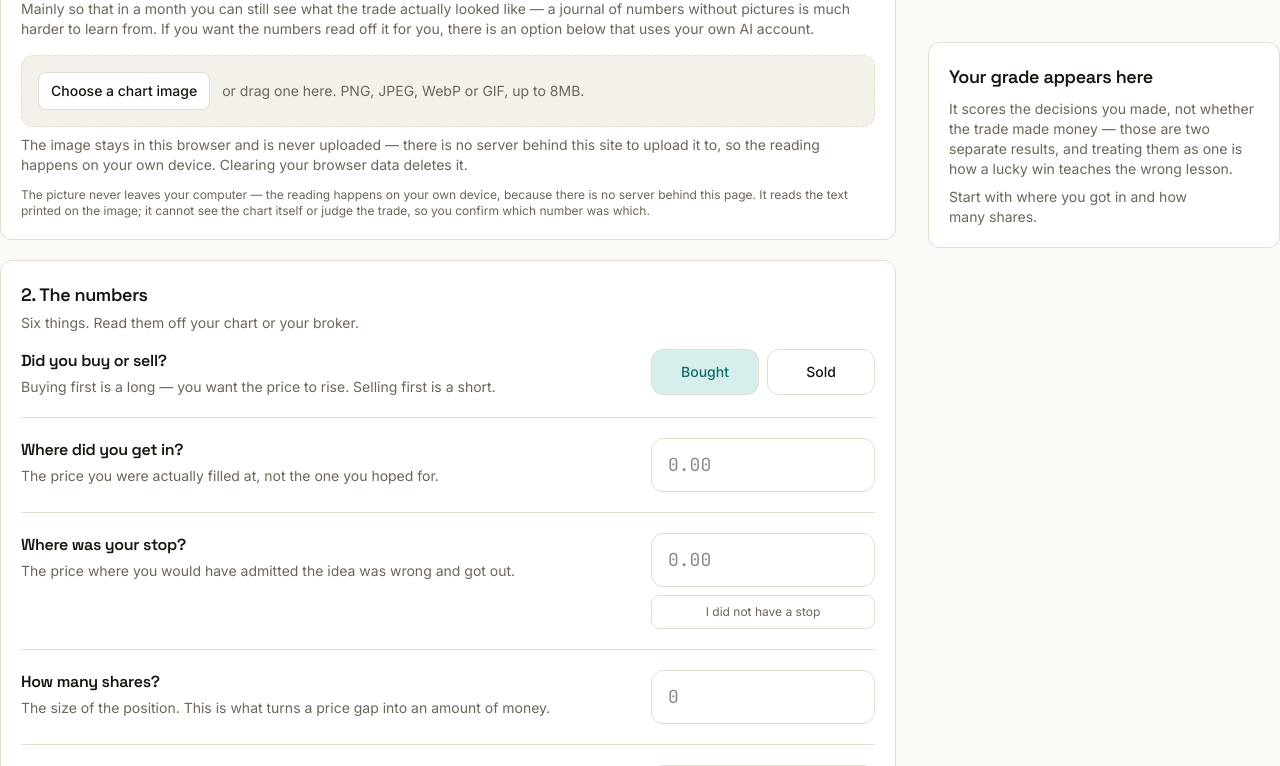
Test: the size hint cannot recommend more than the account can buy › the use-that button fills in the capped number, not the raw one
In the number field with placeholder "0.00" in the row of "Where did you get in?": point(763, 465) [651, 438, 875, 492], type "100"
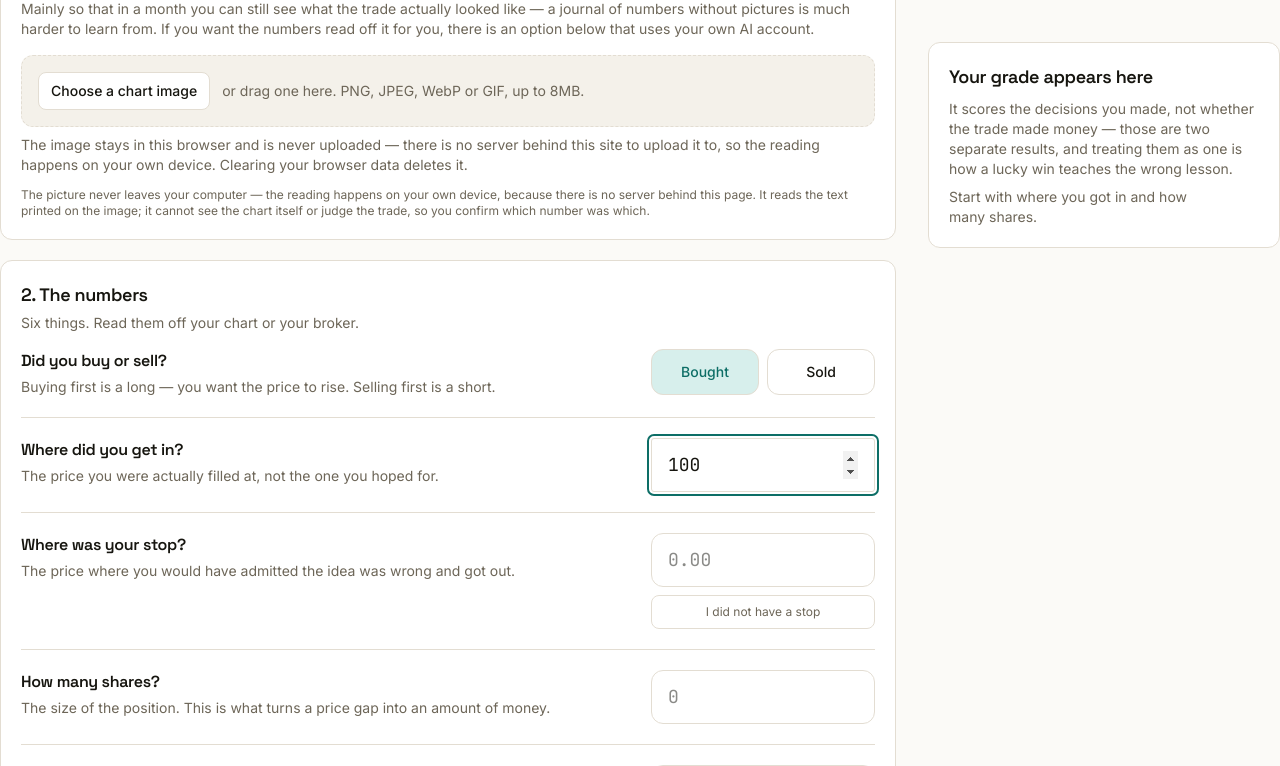
In the number field with placeholder "0.00" in the row of "Where was your stop?": point(763, 560) [651, 533, 875, 587], type "99.99"
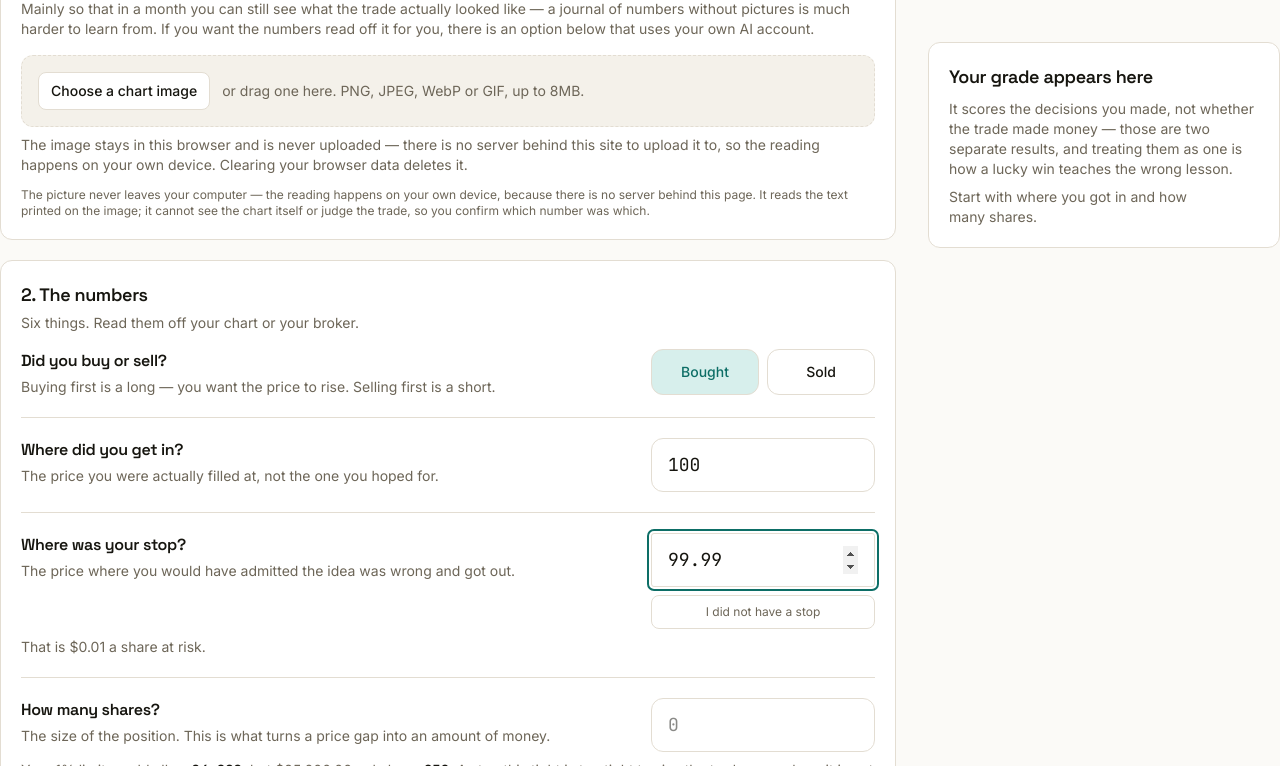
In the number field with placeholder "0": point(763, 725) [651, 698, 875, 752], type "1"
(page scrolled)
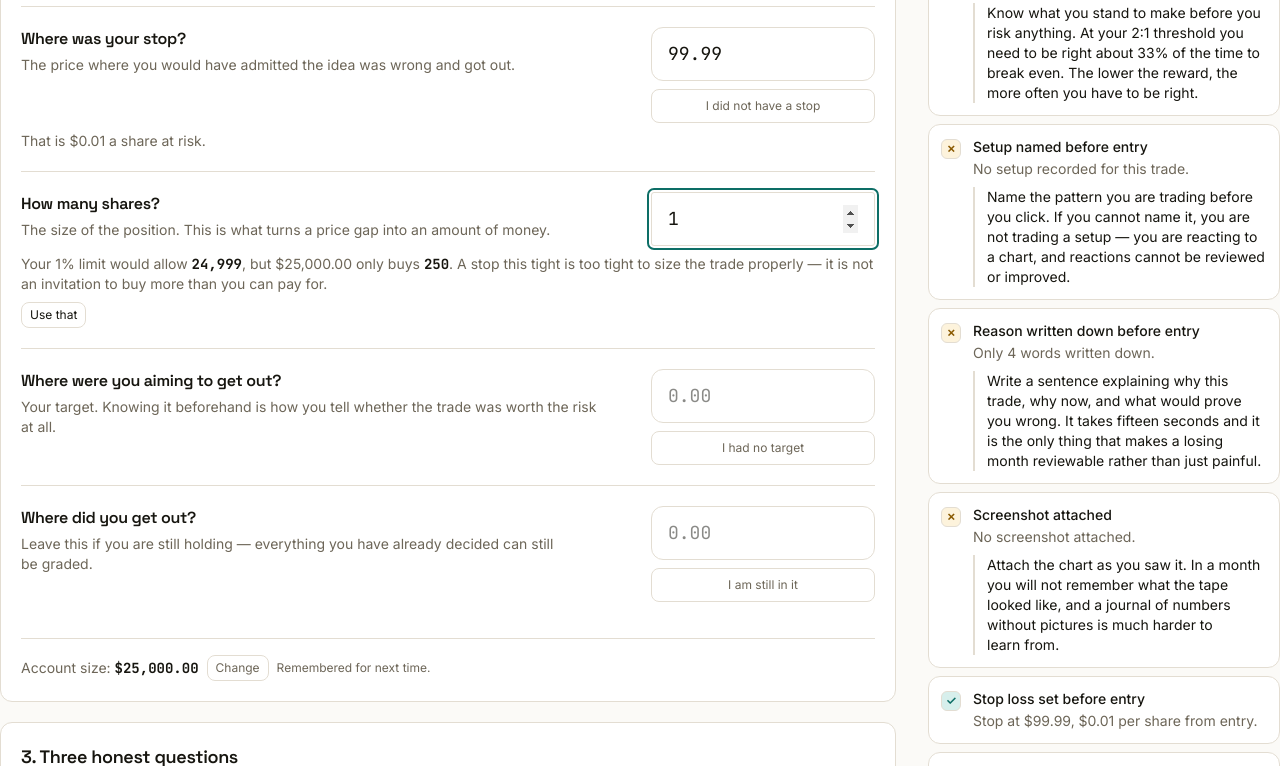
In the number field with placeholder "0.00" in the row of "Where were you aiming to get out?": point(763, 396) [651, 369, 875, 423], type "103"
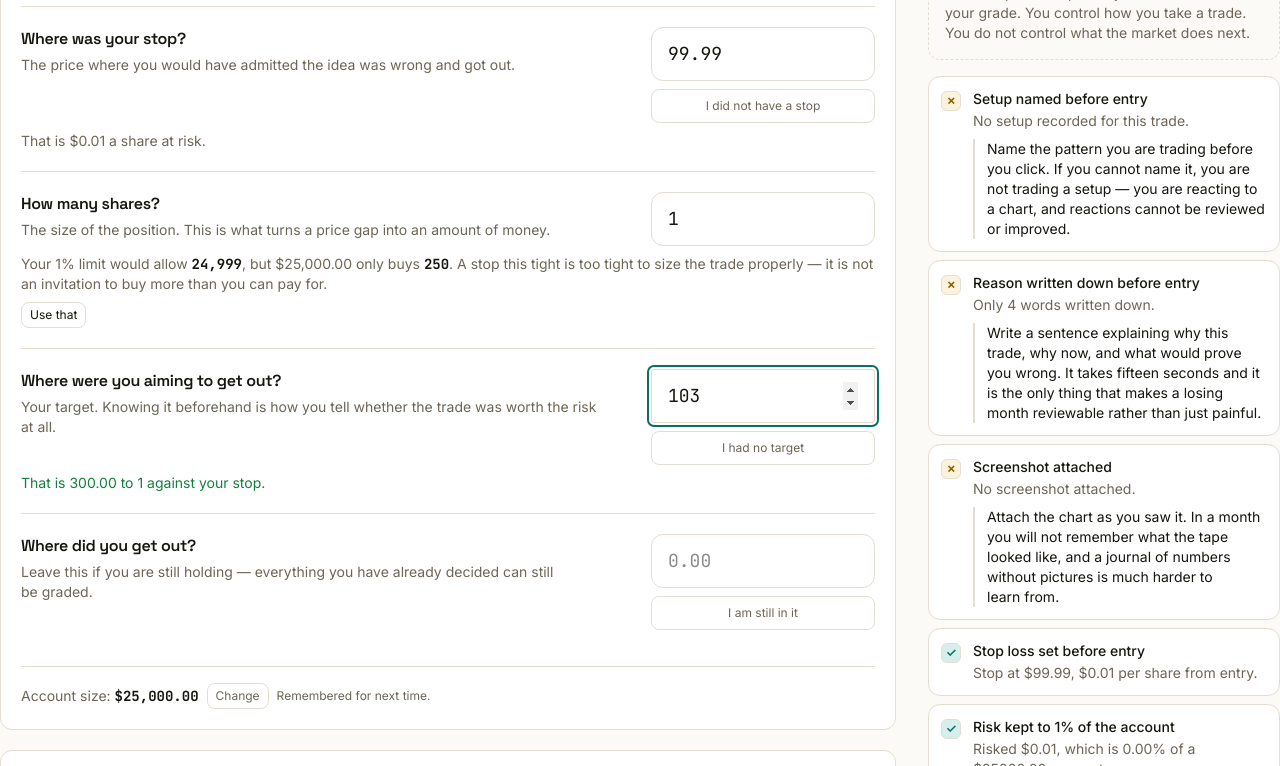
Click the button "Use that": point(54, 315) [21, 302, 86, 328]
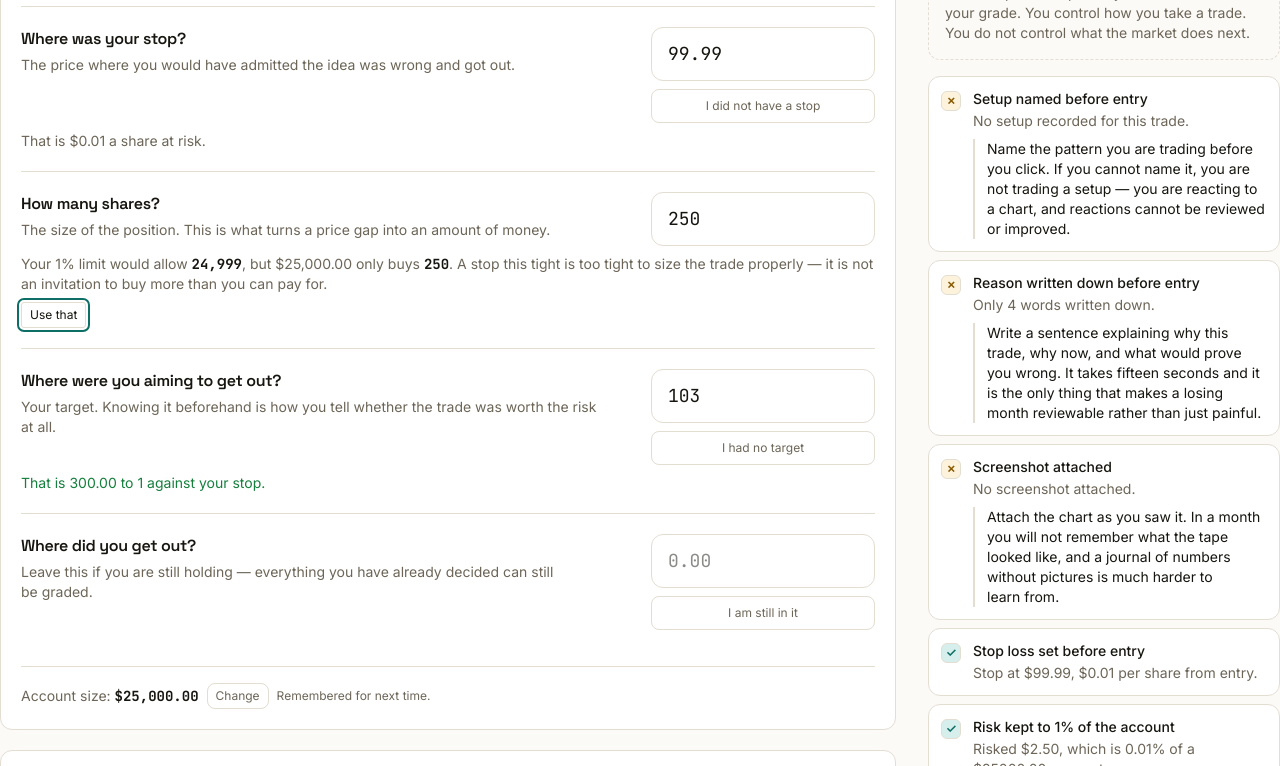
Now the number field in the row of "How many shares?" holds "250", box [651, 192, 875, 246]
